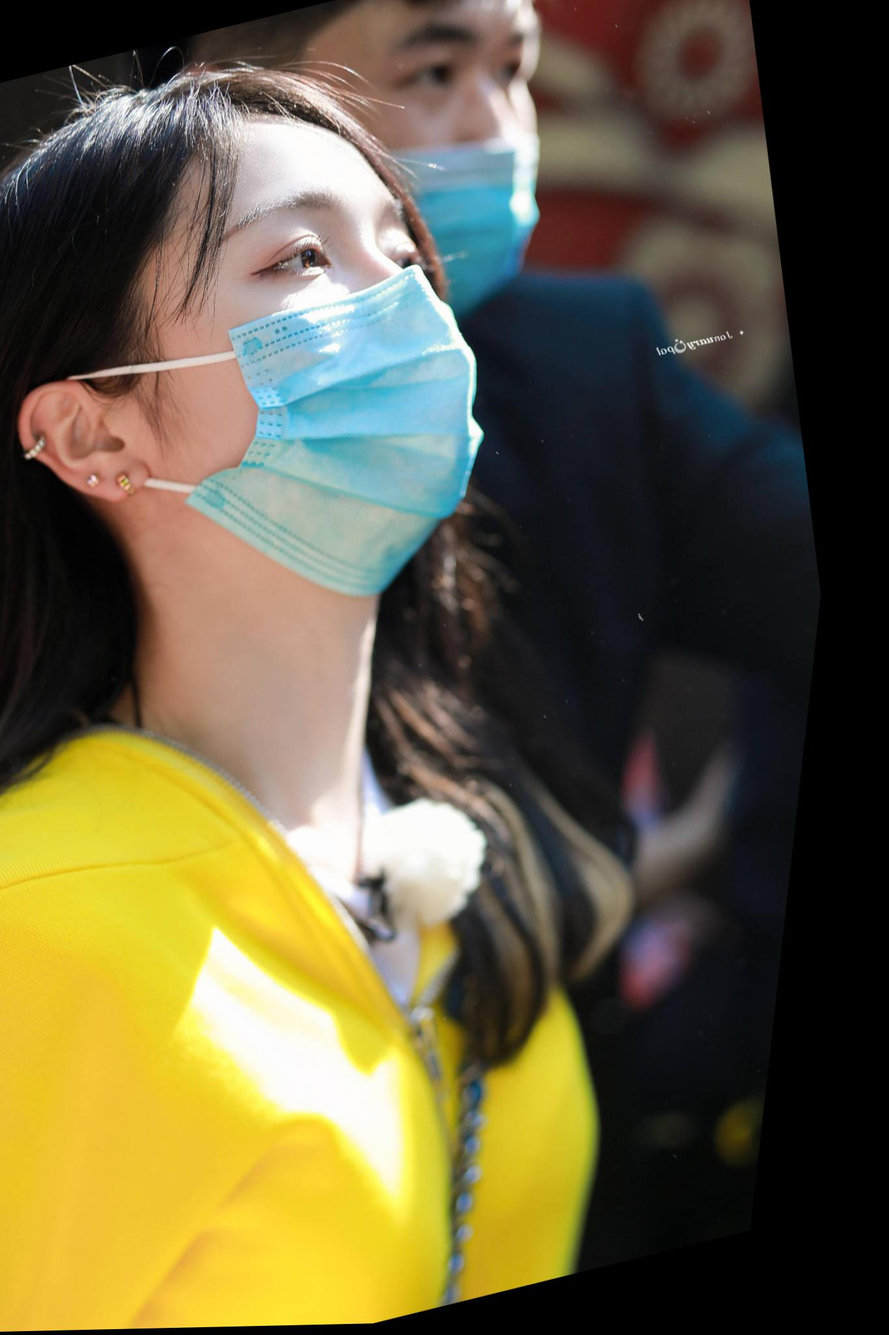OK: (132, 105, 543, 612)
WRONG: (334, 1, 605, 332)
